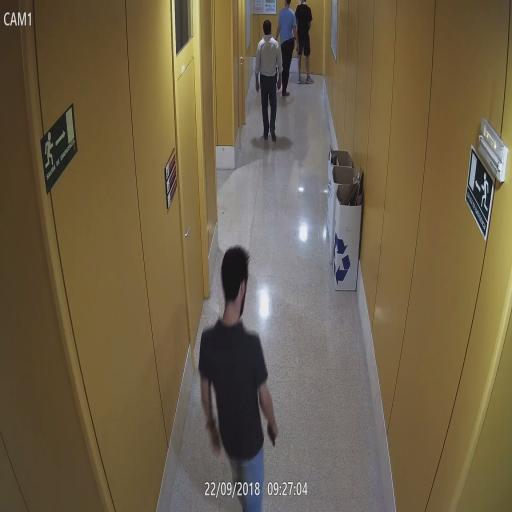Handgun: (266, 416, 280, 447), (294, 44, 301, 60)
